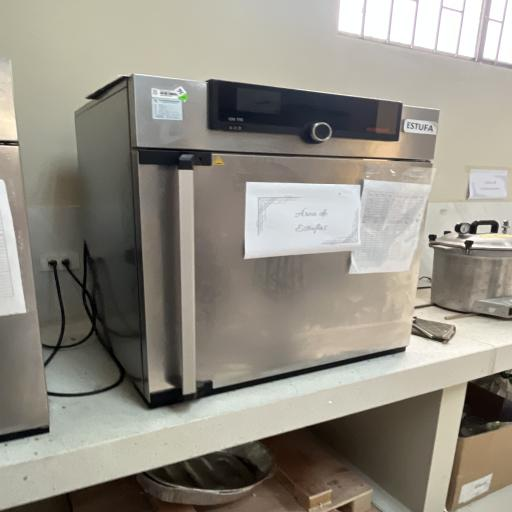Estufa_Memmert: (63, 61, 450, 415)
